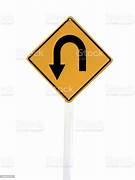back: (28, 17, 111, 101)
